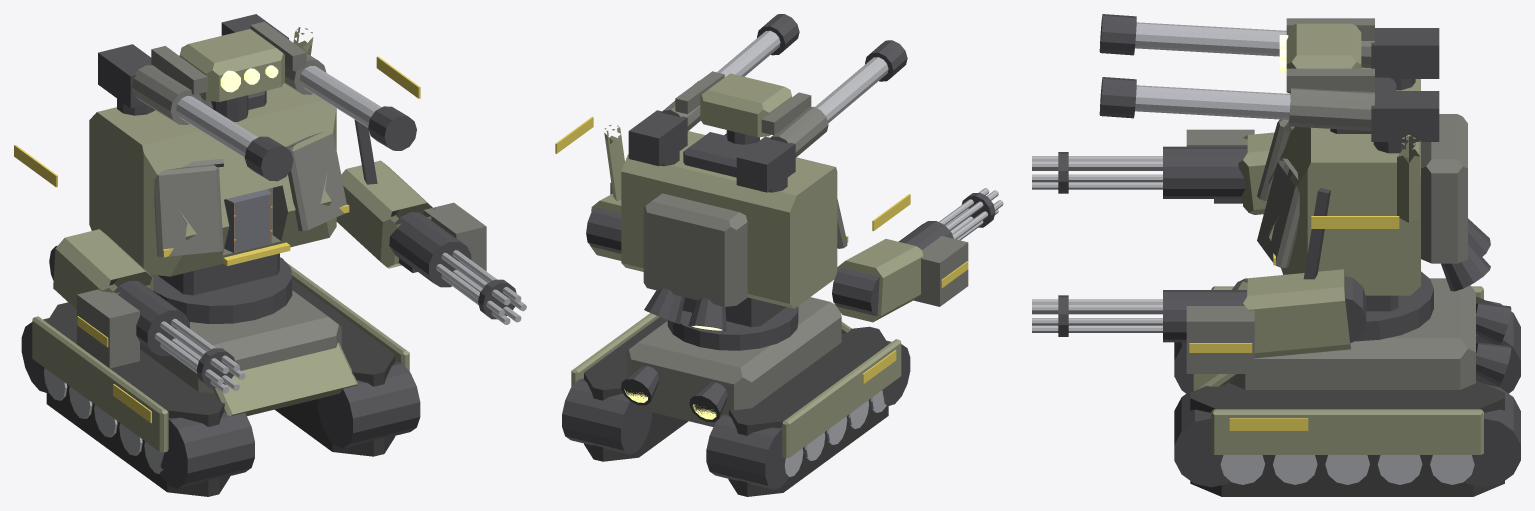
Rendered from bulldog.glb.
3 renders of one model, left to right at view 1: azimuth 30°, elevation 25°; view 2: azimuth 150°, elevation 25°; view 3: azimuth 270°, elevation 25°, orthographic. The views are drawn at different scales.
Parts seen in each view (by area): view 1: core, track-1, hull, skirt-1, pec-1, sprocket15.2, glacis, sprocket-15.2, forearm1, track1, helm, forearm-1 (+34 smaller); view 2: core, hull, pack, track-1, skirt-1, sprocket1-5.2, sprocket-1-5.2, helm, forearm-1, track1, ring, gatling-1_drum (+23 smaller); view 3: core, hull, track1, skirt1, forearm1, pack, gatling-1_body, cannon1_barrel, gatling1_drum, cannon-1_barrel, cannon1_breech, helm (+39 smaller).
Part boxes in pixels (x1,y1,x2,y2): core: [89, 83, 336, 276]; track-1: [46, 302, 230, 496]; hull: [140, 290, 341, 393]; skirt-1: [32, 316, 168, 452]; pec-1: [154, 158, 224, 256]; sprocket15.2: [317, 361, 420, 448]; glacis: [212, 342, 357, 416]; sprocket-15.2: [160, 411, 254, 488]; forearm1: [336, 160, 435, 268]; track1: [275, 279, 395, 456]; helm: [179, 29, 284, 101]; forearm-1: [53, 229, 153, 309]; core: [621, 131, 837, 308]; hull: [626, 297, 841, 426]; pack: [643, 193, 747, 306]; track-1: [728, 326, 888, 496]; skirt-1: [782, 339, 901, 457]; sprocket1-5.2: [562, 378, 651, 454]; sprocket-1-5.2: [706, 414, 788, 489]; helm: [700, 73, 791, 137]; forearm-1: [835, 239, 923, 322]; track1: [584, 317, 688, 461]; ring: [667, 306, 798, 350]; gatling-1_drum: [913, 236, 968, 306]; core: [1269, 67, 1420, 295]; hull: [1229, 278, 1475, 389]; track1: [1190, 380, 1504, 496]; skirt1: [1211, 409, 1483, 454]; forearm1: [1238, 269, 1350, 358]; pack: [1421, 114, 1467, 263]; gatling-1_body: [1163, 146, 1246, 198]; cannon1_barrel: [1135, 85, 1290, 119]; gatling1_drum: [1186, 306, 1254, 373]; cannon-1_barrel: [1135, 22, 1286, 56]; cannon1_breech: [1371, 91, 1439, 141]; helm: [1286, 23, 1361, 93].
Size of the model in its own units: 17.44 by 16.82 by 18.65.
